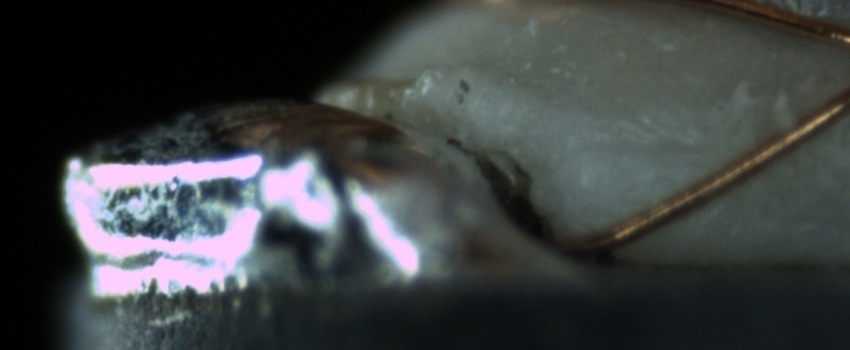DL: (580, 114, 716, 176)
